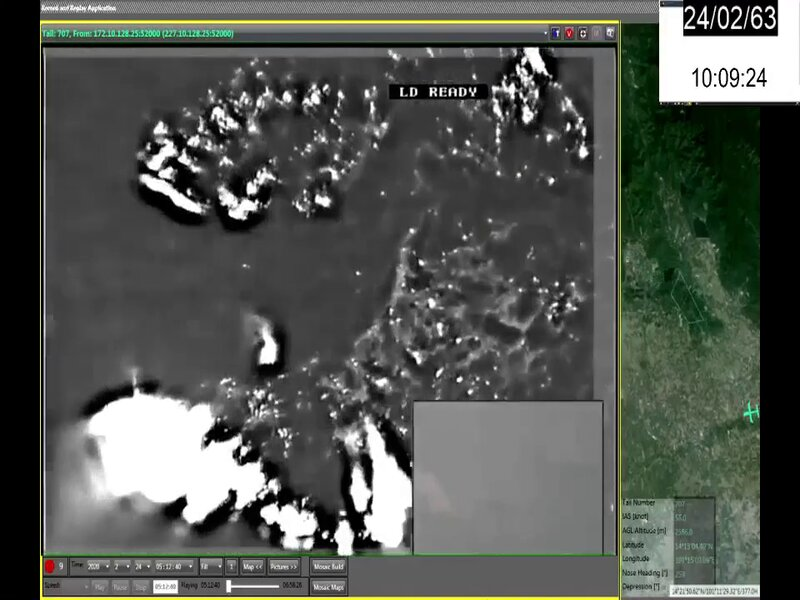Fire: (87, 387, 412, 551)
